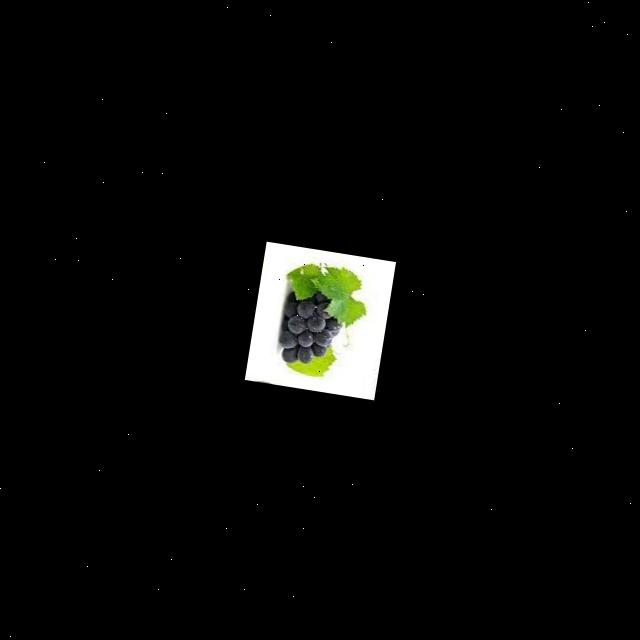grape: (276, 286, 348, 371)
